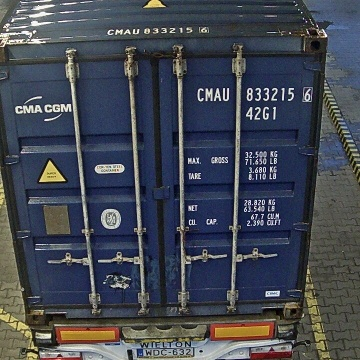serial_id: (197, 87, 312, 101)
